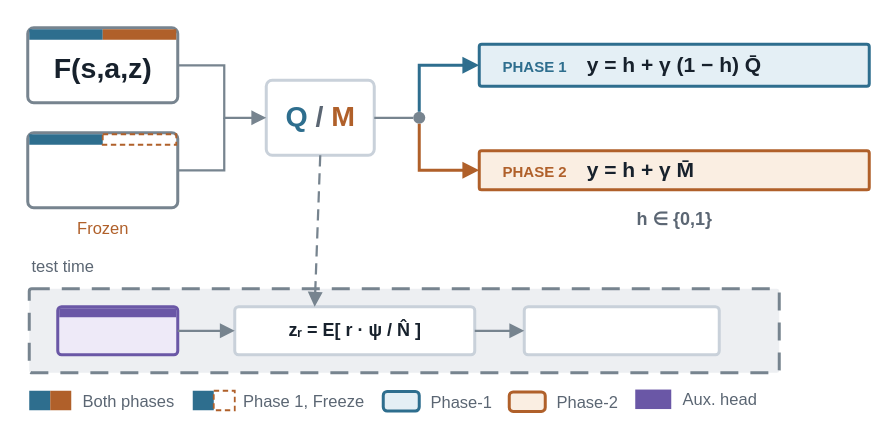
Image size: 896x441. Some labels were removed from this diagram. Each missing label, with the centre of its shape:
"act on zᵣ" belongs at (x=621, y=330).
"N̂" belongs at (x=117, y=330).
"ψ(g)" belongs at (x=102, y=169).
